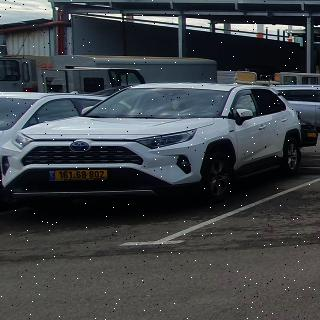LicensePlate: (56, 170, 107, 178)
